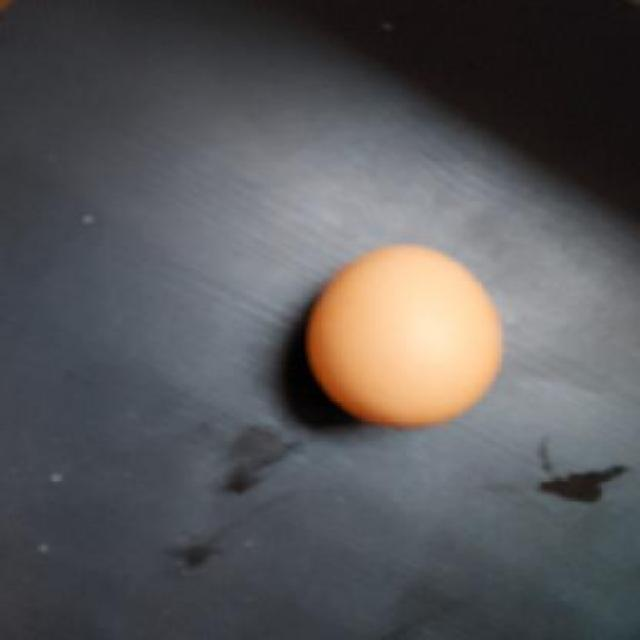biodegradable: (297, 242, 508, 433)
